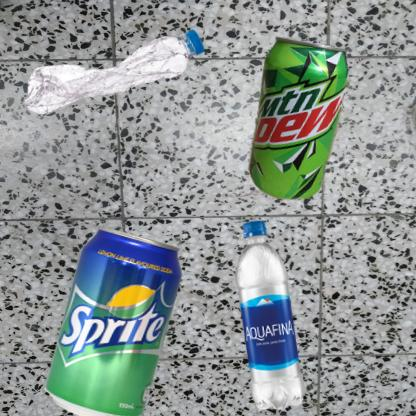botella: (10, 10, 256, 145), (213, 213, 329, 416)
lata: (10, 213, 230, 416), (213, 10, 393, 233)
